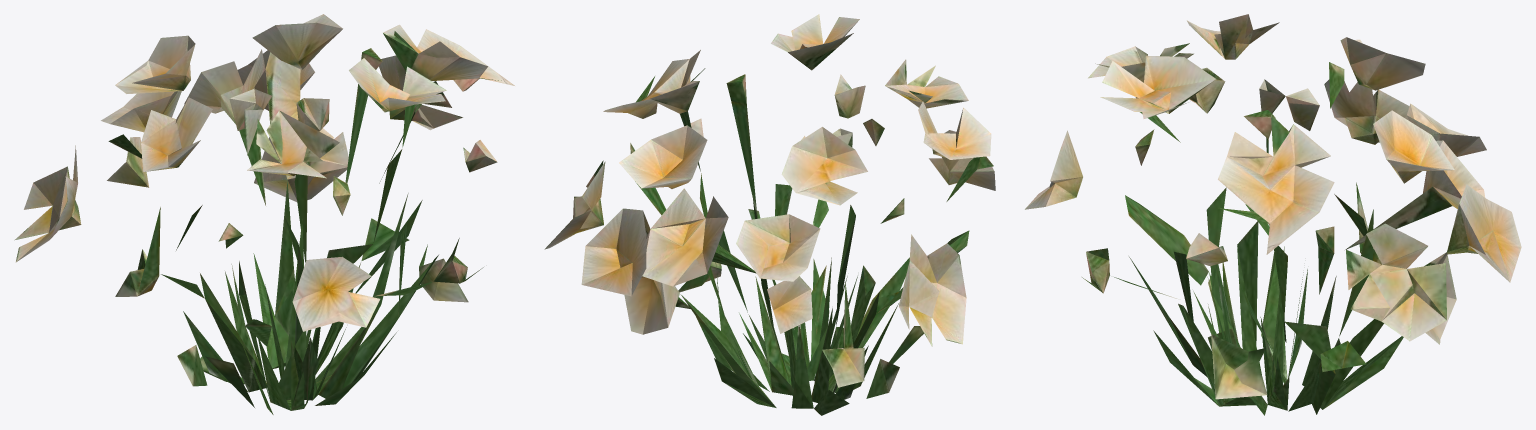
Rendered from flowers.glb.
3 renders of one model, left to right at view 1: azimuth 30°, elevation 25°; view 2: azimuth 150°, elevation 25°; view 3: azimuth 270°, elevation 25°, orthographic. The views are drawn at different scales.
Size of the model in its own units: 1.87 by 1.39 by 1.8.
1 material, 1 textured.
